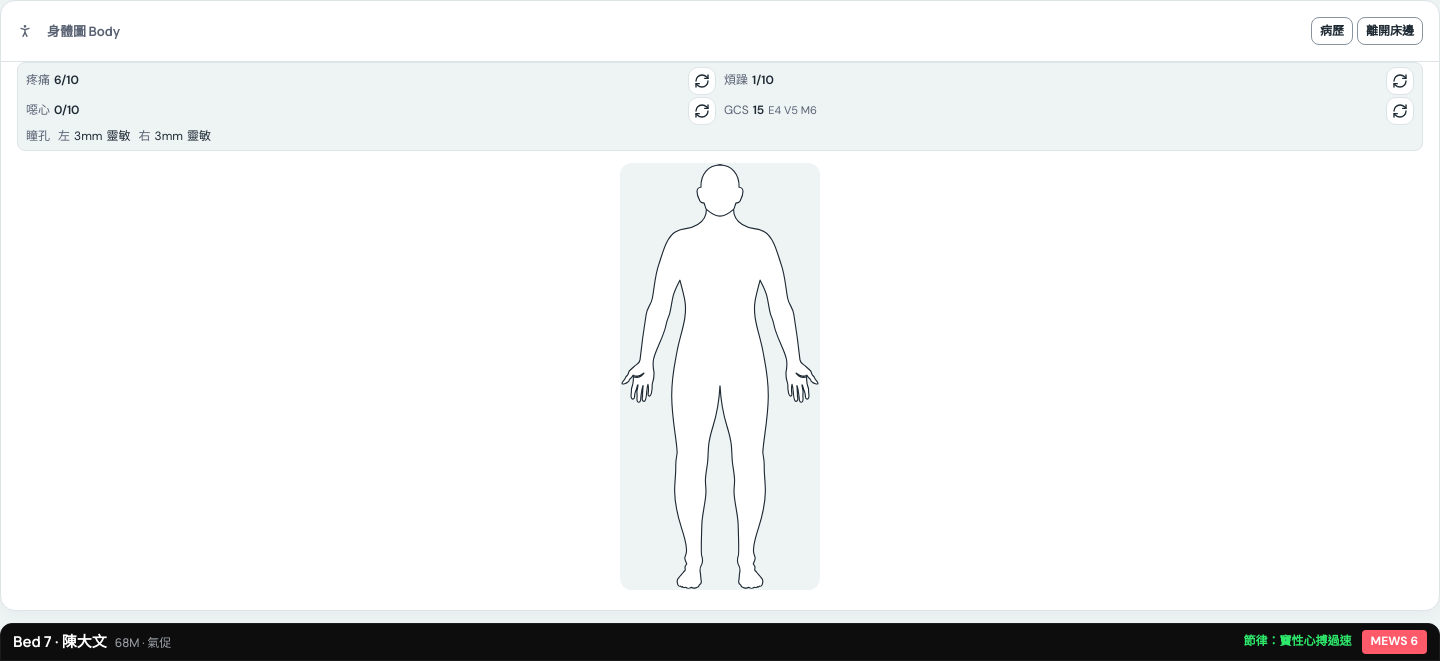
Test: 房間取代平面圖 › 病歷可獨立開關，僅列可見資料，離開床邊返回病房
Later steps or results of the test are not shown.
Click the button with test id "open-medical-record": (1332, 31) 1311,17 -> 1353,45
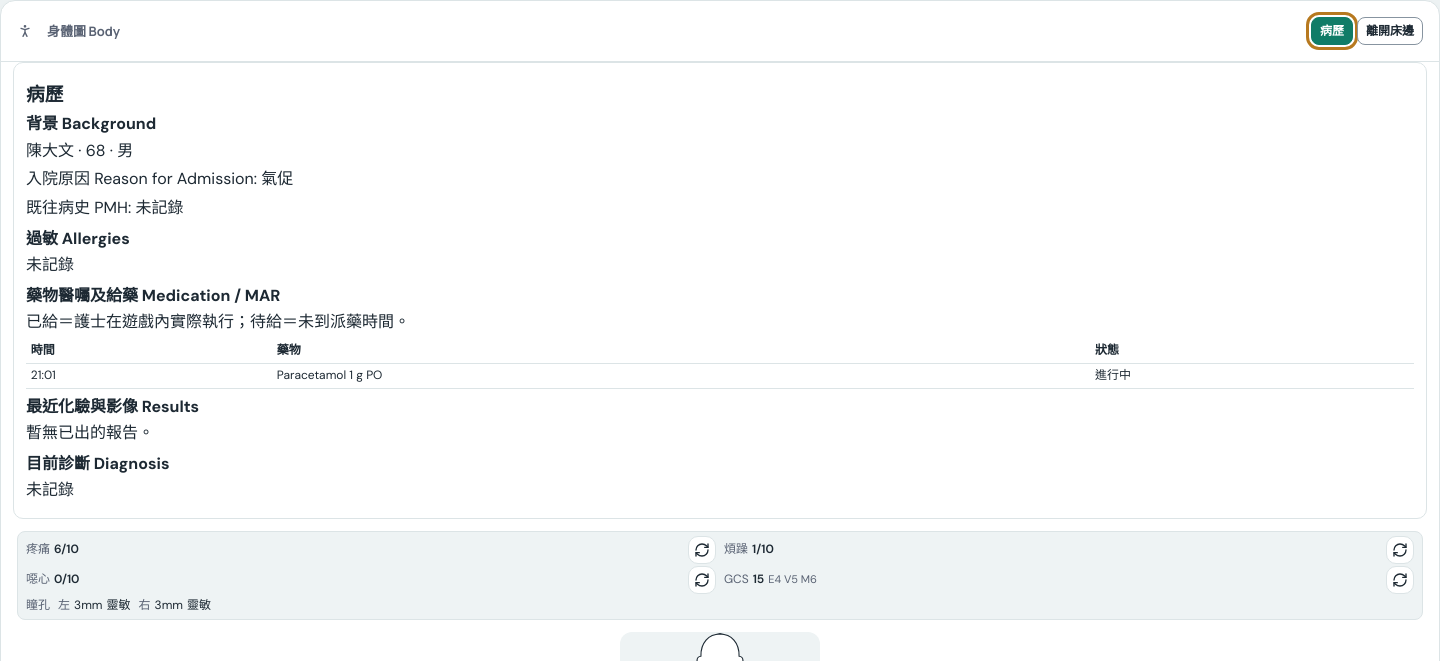
Expected: the element with test id "medical-record" shows "陳大文", 26,140 -> 74,161
Expected: the element with test id "medical-record" shows "氣促", 261,168 -> 293,189
Expected: the element with test id "medical-record" shows "Paracetamol 1 g PO", 277,368 -> 382,384
Click the button with test id "open-medical-record": (1332, 31) 1311,17 -> 1353,45
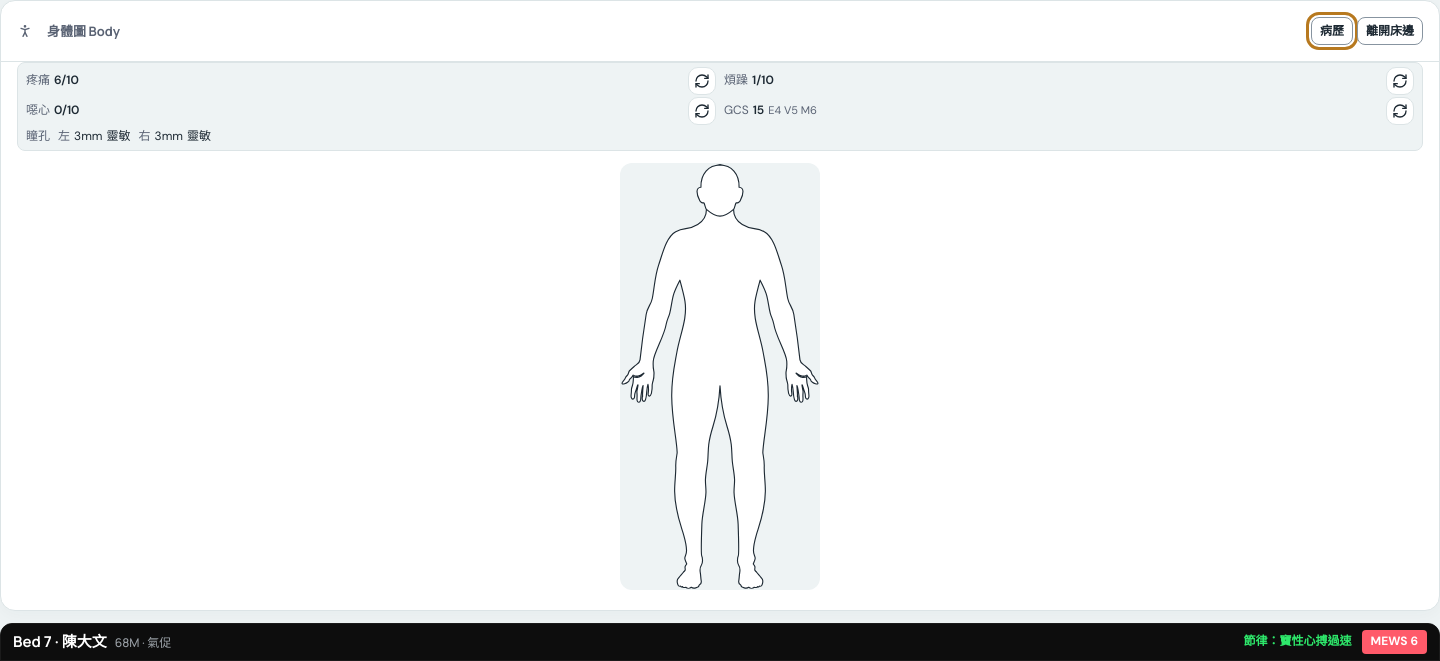
Expected: the element with test id "medical-record" is gone
